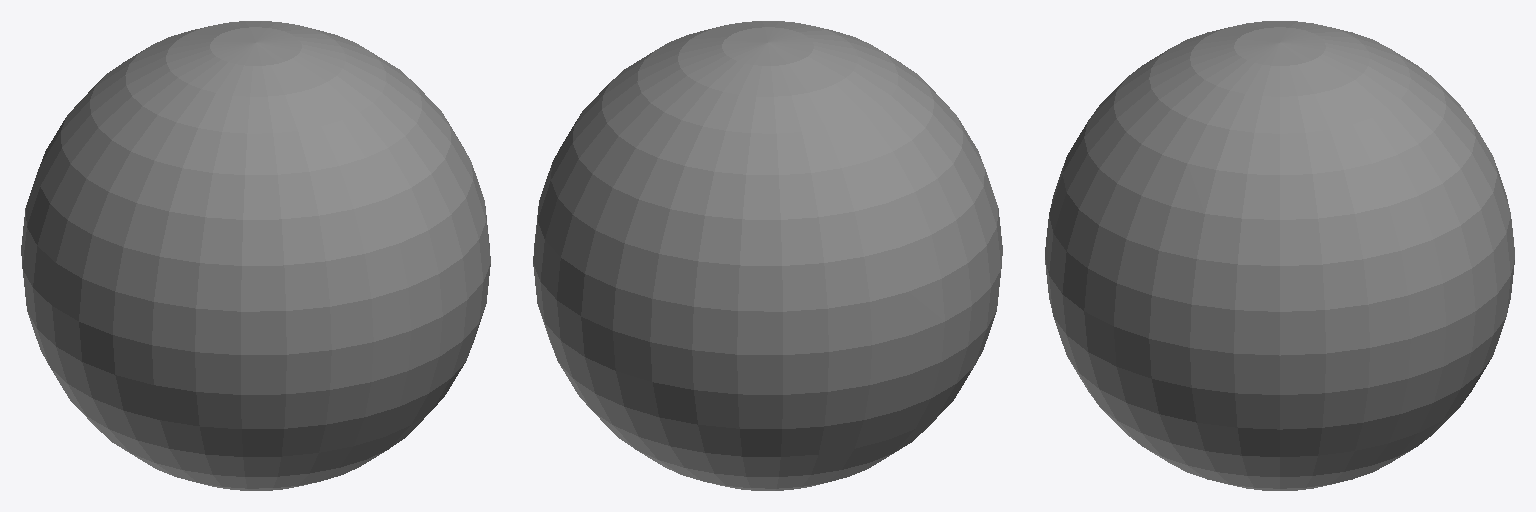
File: walls.obj
3 views of the same model, side by side, from view 1: azimuth 30°, elevation 25°; view 2: azimuth 150°, elevation 25°; view 3: azimuth 270°, elevation 25° (orthographic).
Visible parts, largest first — view 1: Sphere001; view 2: Sphere001; view 3: Sphere001.
Boxes of the visible parts, x1,y1,x2,y2 form: Sphere001: [21, 21, 490, 490]; Sphere001: [533, 21, 1002, 490]; Sphere001: [1045, 21, 1514, 490].
Size of the model in its own units: 42.19 by 42.19 by 42.19.